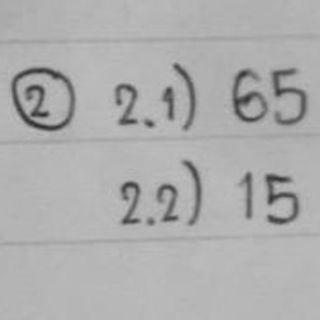.: (141, 116, 157, 130), (144, 214, 158, 230)
1: (235, 170, 257, 222), (160, 84, 176, 122)
2: (114, 178, 142, 225), (111, 81, 139, 127), (155, 182, 182, 224)
5: (270, 66, 309, 127), (263, 171, 300, 227)
6: (229, 65, 270, 122)
